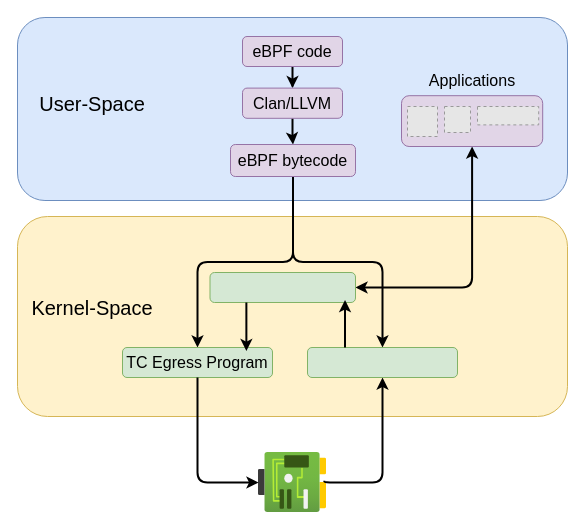
The diagram is 585 pixels wide and 530 high, and some of its shapes have lost their labels. Grey dashed boxes stand in for pictures. Each missing label, with the centre of its shape:
"Network Stack" belongs at point (282, 287).
"TC Ingress Program" belongs at point (382, 362).
